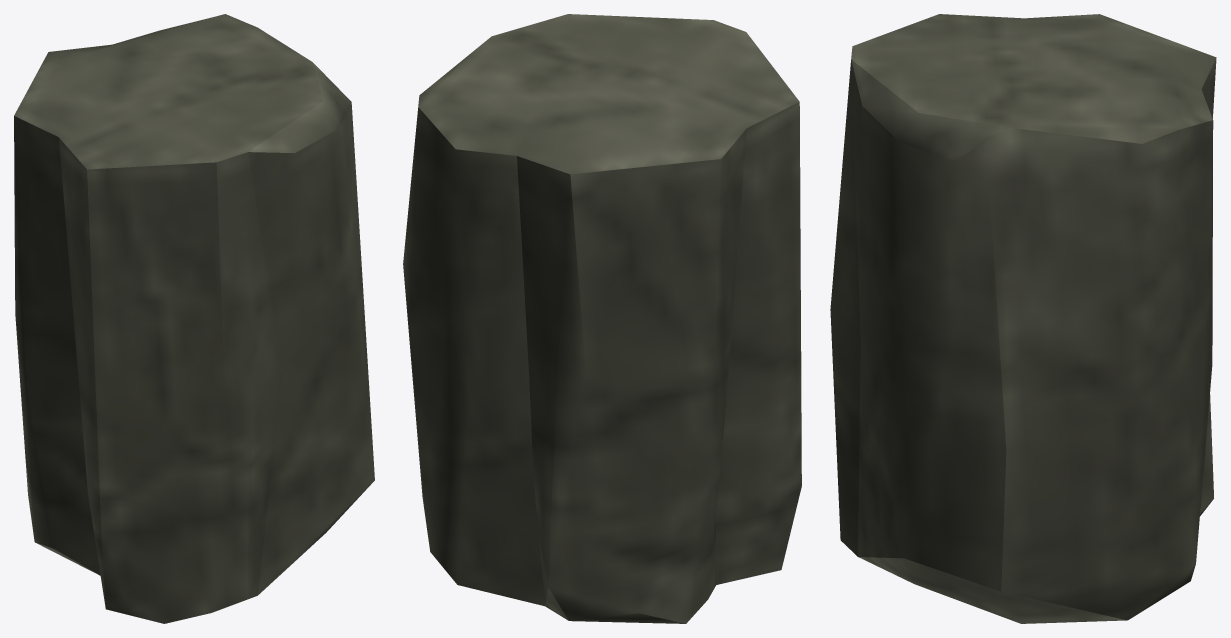
Rendered from Rock_10.fbx.
3 renders of one model, left to right at view 1: azimuth 30°, elevation 25°; view 2: azimuth 150°, elevation 25°; view 3: azimuth 270°, elevation 25°, orthographic. The views are drawn at different scales.
Visible parts, largest first — view 1: Rock_10; view 2: Rock_10; view 3: Rock_10.
Boxes of the visible parts, x1=… form: Rock_10: x1=14, y1=14, x2=374, y2=623; Rock_10: x1=403, y1=14, x2=801, y2=623; Rock_10: x1=830, y1=14, x2=1216, y2=623.
Size of the model in its own units: 201 by 294 by 201.
Materials: 1 (1 with a texture image).
